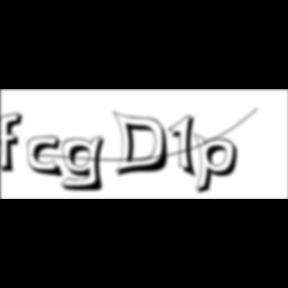1: (168, 114, 202, 182)
D: (112, 110, 176, 180)
c: (28, 136, 68, 180)
f: (0, 111, 28, 175)
g: (60, 134, 112, 194)
p: (194, 132, 244, 198)
